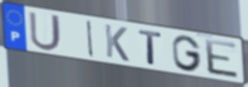E: (203, 37, 241, 80)
G: (171, 34, 204, 73)
I: (85, 19, 95, 59)
K: (103, 23, 131, 64)
T: (137, 28, 164, 67)
U: (28, 10, 63, 53)
